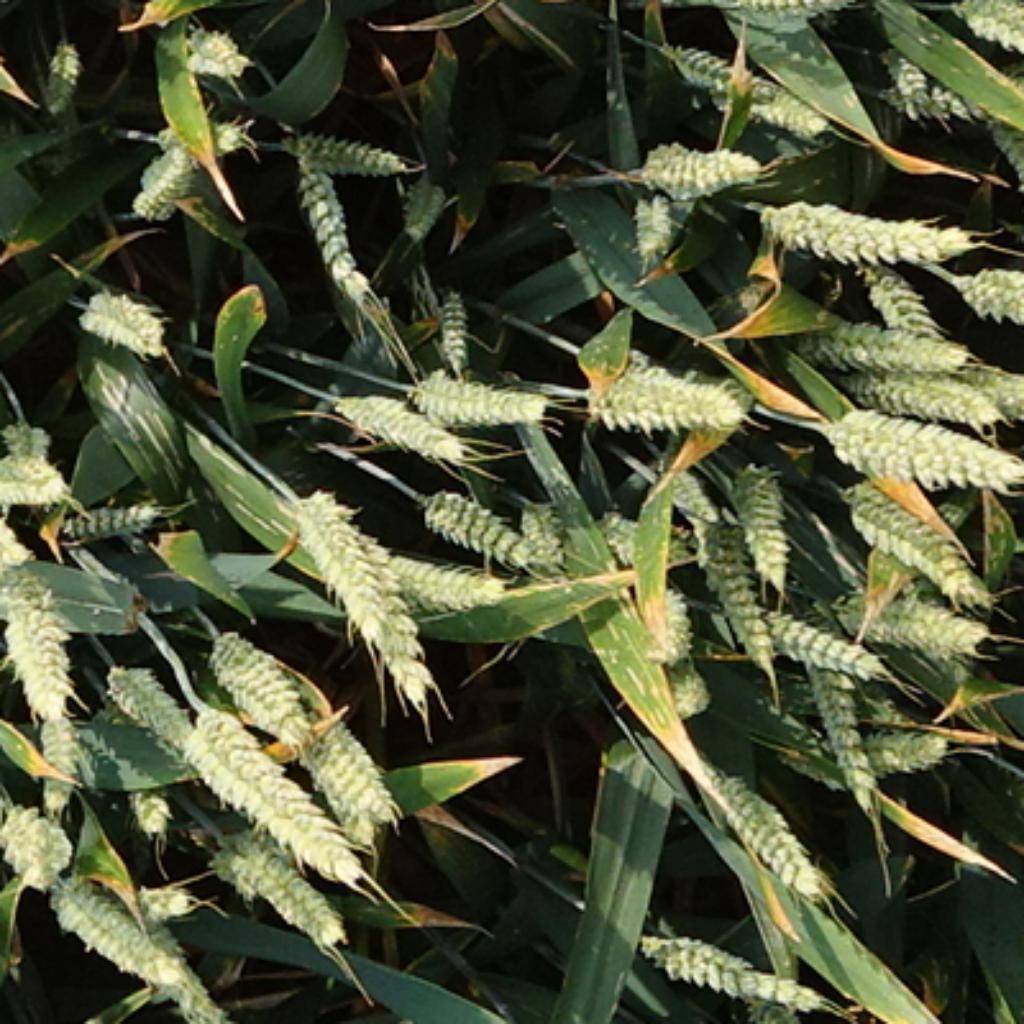0-0: (284, 488, 435, 709), (192, 704, 366, 888), (632, 908, 824, 1013), (844, 481, 1000, 609), (693, 760, 834, 901), (46, 872, 194, 1002), (752, 186, 977, 263), (801, 657, 883, 860), (287, 143, 387, 309), (202, 834, 348, 947), (696, 519, 785, 704), (821, 404, 1024, 483), (581, 345, 755, 435), (304, 714, 409, 832), (212, 629, 322, 739), (419, 491, 555, 576), (1, 564, 80, 710), (760, 599, 888, 686), (798, 312, 970, 373), (811, 704, 952, 778), (824, 593, 988, 655), (338, 391, 474, 465), (381, 547, 517, 616), (729, 465, 801, 593), (104, 660, 194, 762), (401, 363, 550, 424), (835, 368, 996, 422), (862, 263, 954, 353), (634, 130, 762, 194), (151, 950, 256, 1024), (128, 125, 204, 220), (875, 35, 965, 115), (286, 120, 414, 176), (302, 762, 378, 855), (74, 284, 171, 355), (0, 790, 74, 879), (734, 64, 826, 135), (885, 69, 1024, 115), (652, 25, 739, 97), (56, 488, 163, 540), (517, 496, 568, 601), (0, 432, 74, 504), (168, 12, 248, 76), (965, 344, 1024, 430), (629, 573, 693, 652), (153, 107, 248, 156), (947, 0, 1024, 59), (957, 261, 1024, 327), (660, 463, 721, 535), (424, 276, 473, 363), (30, 40, 84, 117), (129, 872, 194, 931), (399, 174, 453, 243), (30, 701, 81, 773), (627, 184, 678, 253), (691, 0, 875, 19), (212, 842, 263, 906), (593, 512, 650, 568), (660, 652, 711, 711), (122, 775, 171, 834), (3, 416, 56, 462)
